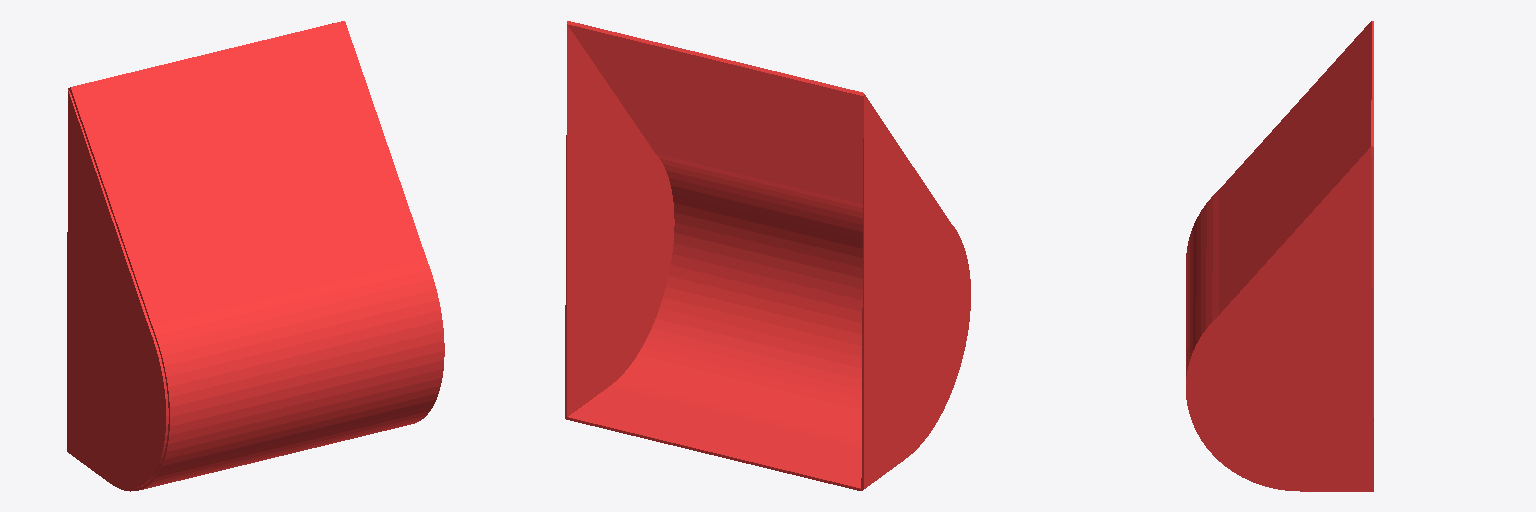
The robot description file, URDF, robot "bucket.urdf":
<?xml version="0.0" ?>
<robot name="bucket.urdf">
  <material name="DarkGrey">
    <color rgba="0.2 0.2 0.2 1.0"/>
  </material>
  
  <material name="Bucket">
    <color rgba="1 0.3 0.3 1.0"/>
  </material>

  <link name="baseLink">
    <contact>
      <lateral_friction value="1.0"/>
      <rolling_friction value="0.0001"/>
      <inertia_scaling value="3.0"/>
    </contact>
    <inertial>
      <origin rpy="0 0 0" xyz="0 0 0"/>
       <mass value=".1"/>
       <inertia ixx="1" ixy="0" ixz="0" iyy="1" iyz="0" izz="1"/>
    </inertial>
    <visual>
      <origin rpy="0 0 0" xyz="0 0 0"/>
      <geometry>
        <mesh filename="suction/base.obj" scale="0.001 0.001 0.001"/>
      </geometry>
      <material name="DarkGrey"/>
    </visual>
    <!--visual>
      <origin rpy="0 0 0" xyz="0 0 0.075"/>
      <geometry>
        <box size="0.05 0.005 0.11"/>
      </geometry>
      <material name="LightGrey"/>
    </visual-->
    <collision>
      <origin rpy="0 0 0" xyz="0 0 0.075"/>
      <geometry>
        <box size="0.05 0.005 0.01"/>
      </geometry>
    </collision>
  </link>

  <link name="midLink">
    <contact>
      <lateral_friction value="1.0"/>
      <rolling_friction value="0.0001"/>
      <inertia_scaling value="3.0"/>
    </contact>
    <inertial>
      <origin rpy="0 0 0" xyz="0 0 0"/>
       <mass value=".1"/>
       <inertia ixx="1" ixy="0" ixz="0" iyy="1" iyz="0" izz="1"/>
    </inertial>
    <visual>
      <origin rpy="1.57 0 0" xyz="-0.03 0.0 0.0"/>
      <geometry>
        <!--mesh filename="bucket/bucket.obj" scale="0.001 0.001 0.001"/-->
        <mesh filename="bucket/bucket.obj" scale="1 1 1"/>
      </geometry>
      <!--geometry>
        <box size="0.05 0.005 0.005"/>
      </geometry -->
      <material name="Bucket"/>
    </visual>
    <collision>
      <origin rpy="1.57 0 0" xyz="-0.03 0.0 0.0"/>
      <!--geometry>
        <box size="0.05 0.005 0.010"/>
      </geometry-->
      <geometry>
	<mesh filename="bucket.obj" scale="1 1 1"/>
      </geometry>
    </collision>
    <!--collision>
      <origin rpy="0 -0.575469961 0" xyz="-0.25 0 0.059"/>
      <geometry>
        <box size=".02 .6 .15"/>
      </geometry>
    </collision-->
  </link>
  <joint name="baseLink-midLink" type="fixed">
    <origin rpy="0 1.57 3.14" xyz="0 0 0.025"/>
    <parent link="baseLink"/>
    <child link="midLink"/>
  </joint>


</robot>

--- Facts derived from the render (not from the file) ---
3 views of the same robot in one strip: view 1: azimuth 30°, elevation 25°; view 2: azimuth 150°, elevation 25°; view 3: azimuth 270°, elevation 25° (orthographic).
Robot: bucket.urdf — 2 links, 1 joints (1 fixed); root link baseLink; default pose: all joints at 0.
Links seen in each view (by area): view 1: midLink; view 2: midLink; view 3: midLink.
Boxes of the visible links, x1,y1,x2,y2 form: midLink: (67,21,444,491); midLink: (565,21,970,490); midLink: (1186,21,1373,491).
Size in the robot's own frame: 0.0807 by 0.0508 by 0.1026 metres.
1 mesh visuals loaded from 2 distinct referenced files (1 OBJ); not drawn: 1 (reference not matched to a file when rendering).